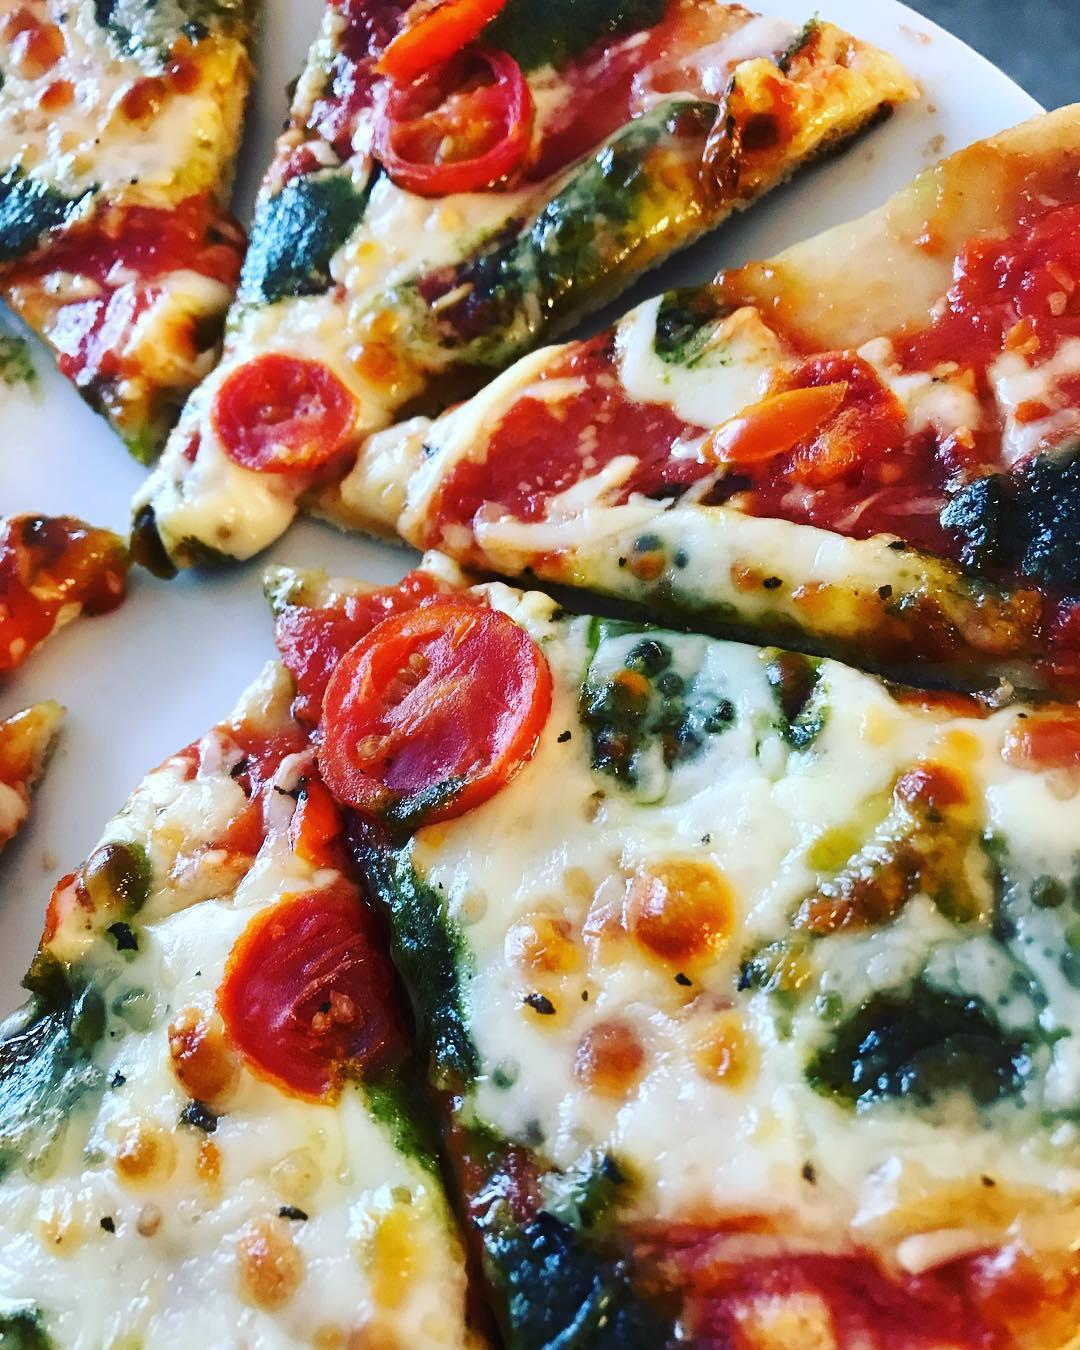Basil: (423, 1137, 677, 1350), (344, 818, 500, 1148), (789, 973, 1067, 1137), (442, 143, 647, 328), (917, 423, 1080, 616), (0, 938, 117, 1176), (242, 137, 381, 301), (487, 0, 684, 75), (0, 160, 90, 271)
Pepperoni: (218, 882, 418, 1099), (469, 378, 701, 526), (210, 349, 368, 472)
Pizza: (0, 0, 1080, 1350)
Tomatoes: (310, 592, 565, 827), (365, 34, 549, 190), (709, 370, 861, 475), (378, 0, 512, 75)
